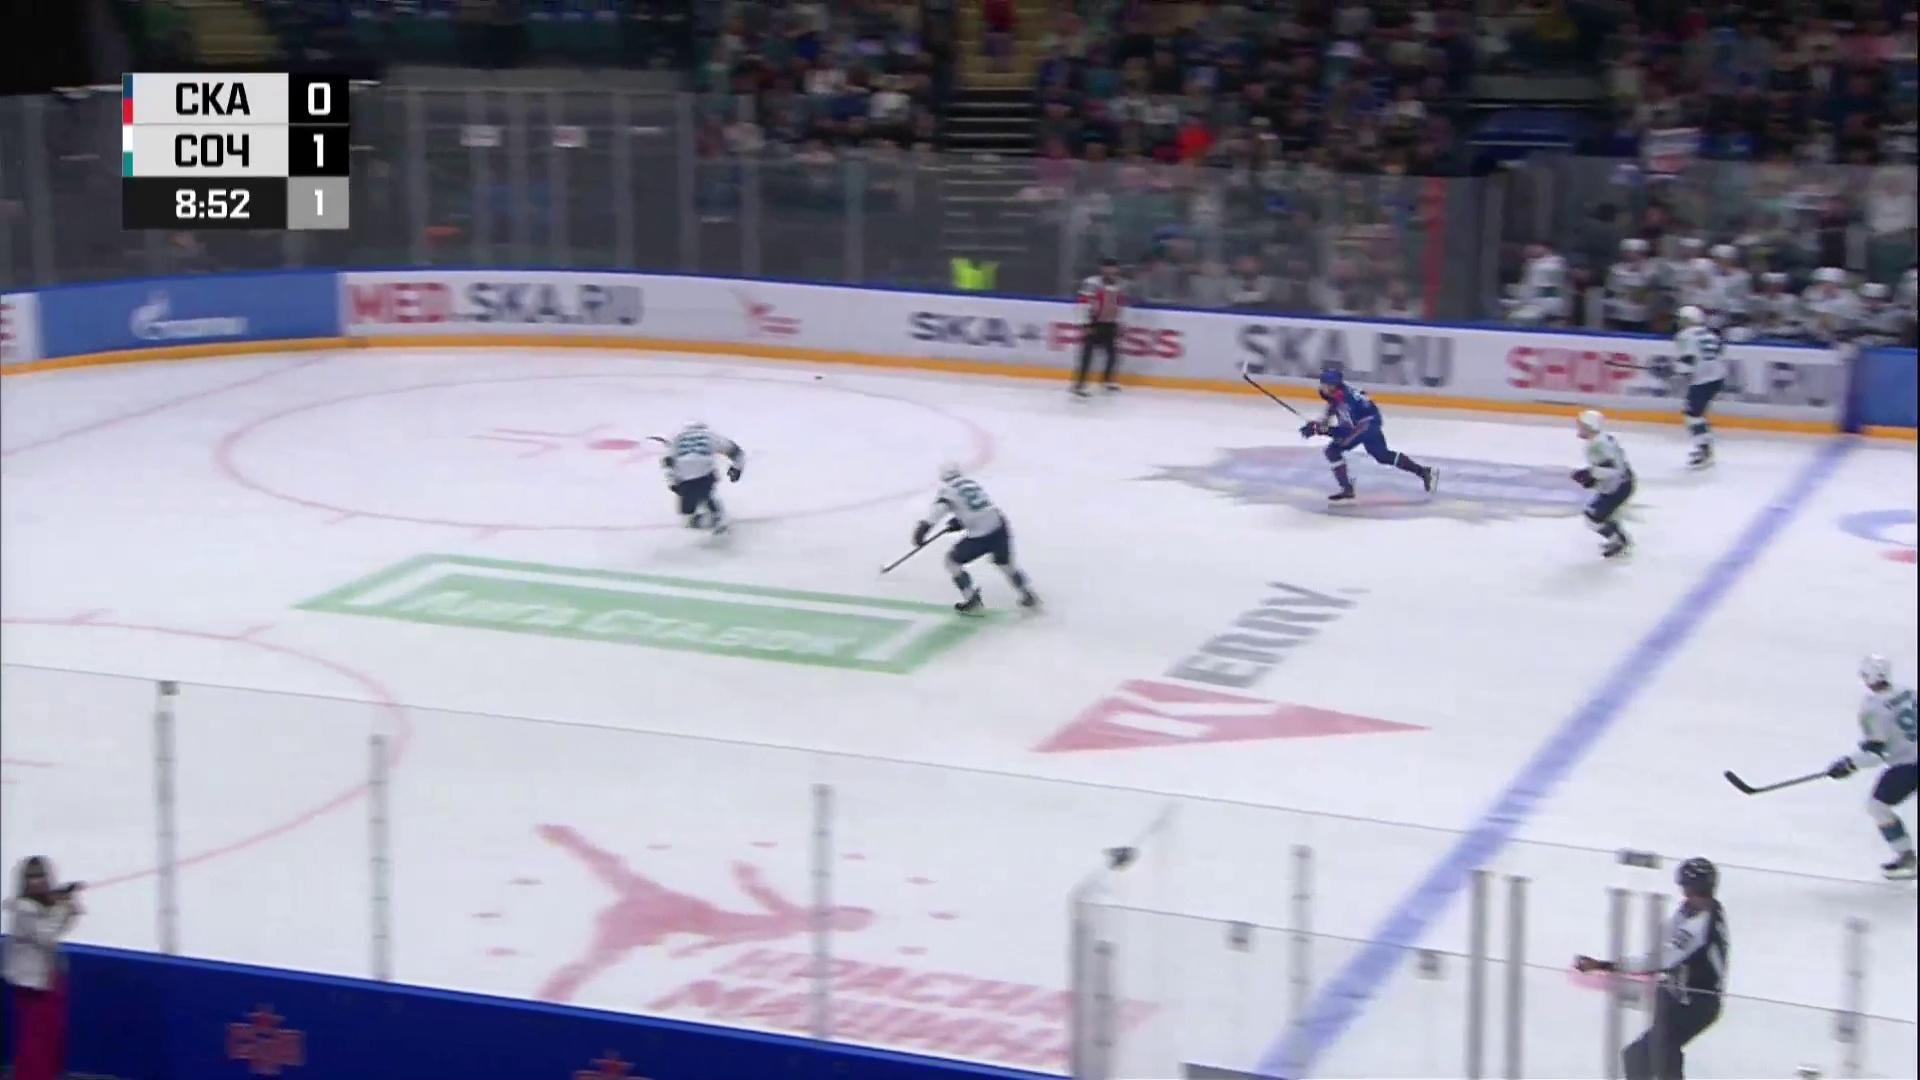ball: (814, 376, 824, 380)
